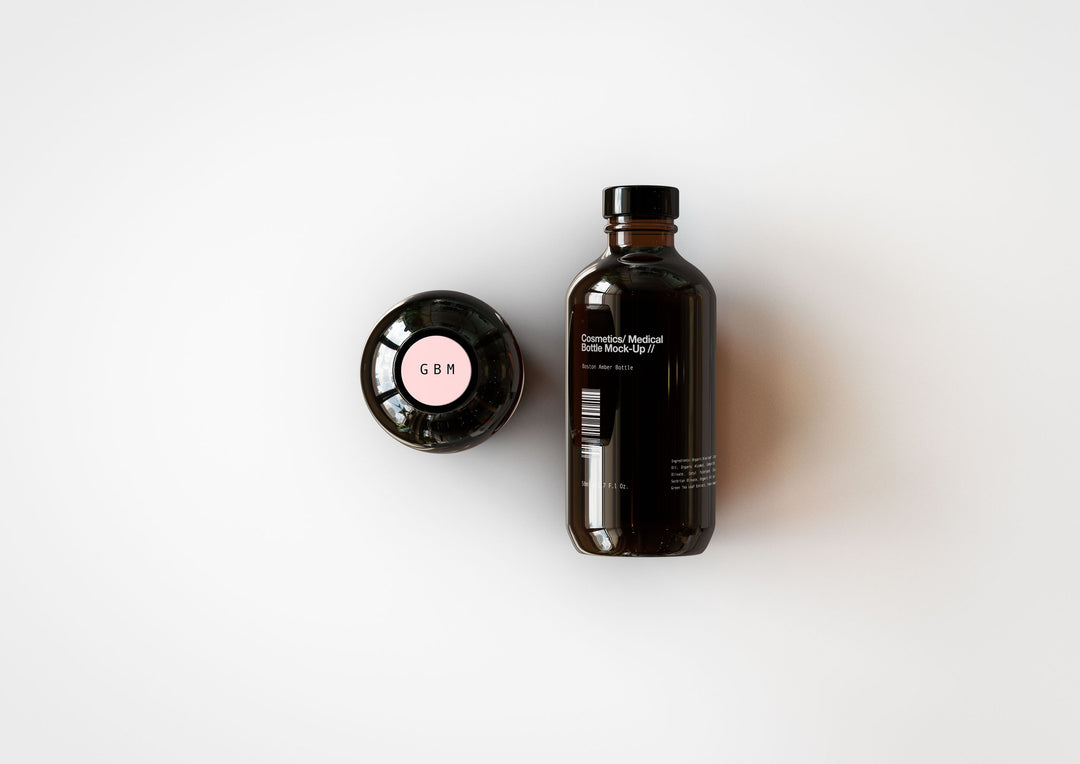Medicine: (560, 170, 724, 568), (348, 270, 532, 480)
